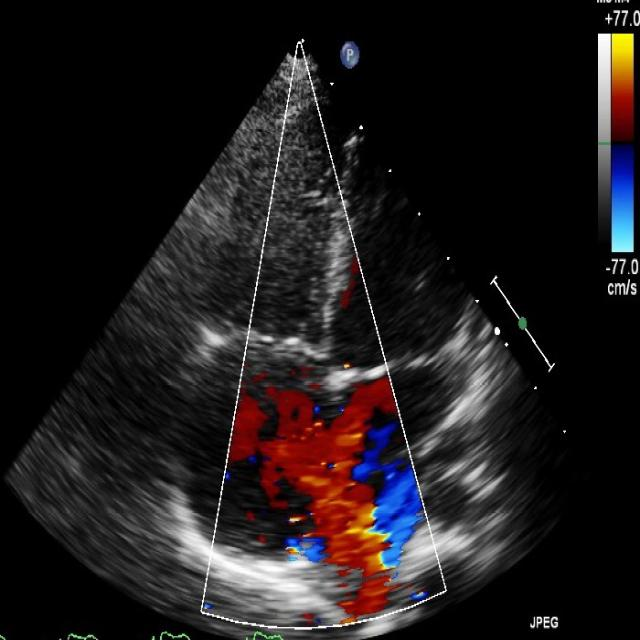ASDType2: (223, 365, 425, 619)
